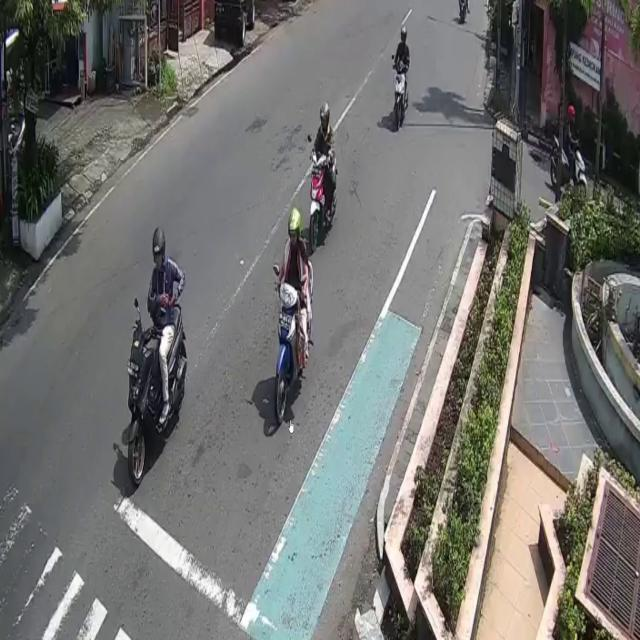bus: (127, 302, 187, 491), (275, 260, 313, 424), (308, 143, 336, 254), (552, 130, 588, 198), (393, 58, 409, 130)
